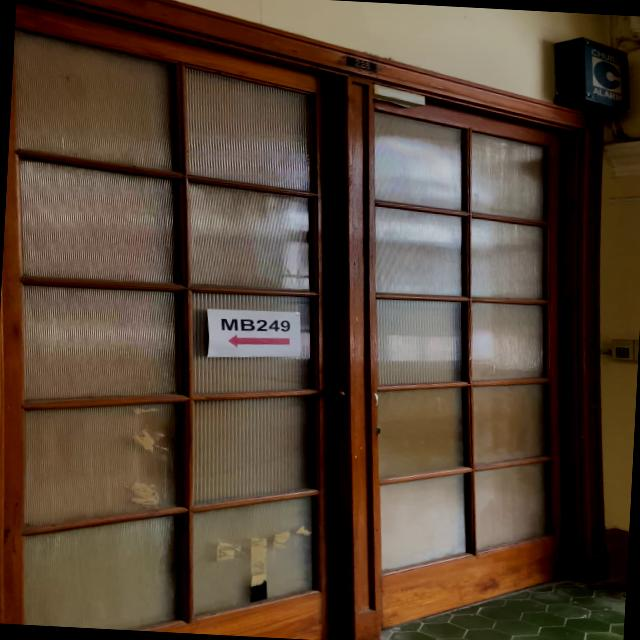room228: (344, 55, 379, 74)
